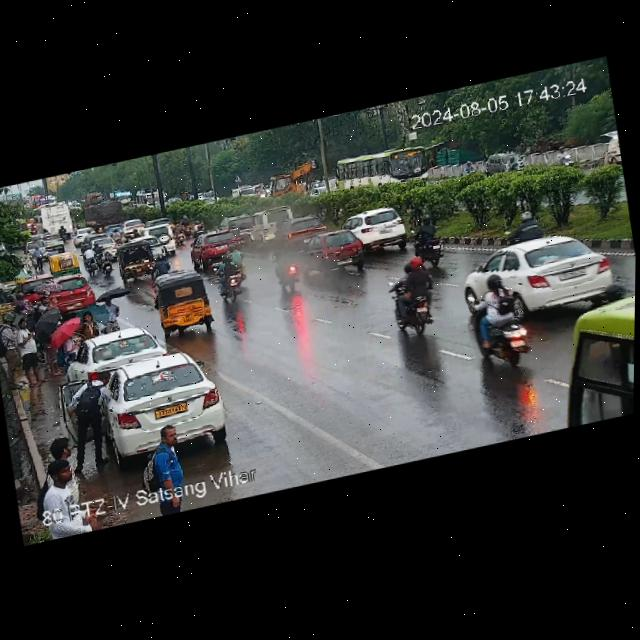bus: (335, 142, 430, 197), (32, 198, 74, 241), (18, 190, 55, 214), (136, 186, 167, 213), (108, 188, 133, 208)
car: (455, 223, 619, 327), (94, 343, 229, 467), (62, 319, 171, 394), (149, 266, 216, 340), (338, 203, 410, 263), (300, 225, 368, 272), (188, 226, 247, 269), (43, 273, 98, 318), (247, 203, 296, 244), (112, 238, 157, 281), (281, 210, 331, 248), (16, 271, 59, 306), (485, 147, 530, 179), (217, 210, 254, 244), (142, 222, 177, 256), (48, 250, 82, 279), (120, 216, 148, 239), (40, 231, 67, 254)
motorcycle: (466, 278, 531, 365), (391, 253, 444, 345), (12, 317, 43, 386), (496, 206, 551, 244), (270, 242, 303, 298), (411, 214, 445, 268), (213, 256, 242, 304), (98, 293, 129, 334), (549, 144, 580, 176), (74, 307, 97, 338), (457, 157, 481, 186), (172, 217, 189, 247), (178, 213, 194, 239)
person: (31, 453, 99, 542), (132, 422, 194, 519)
truck: (83, 199, 128, 234), (81, 192, 106, 211)
